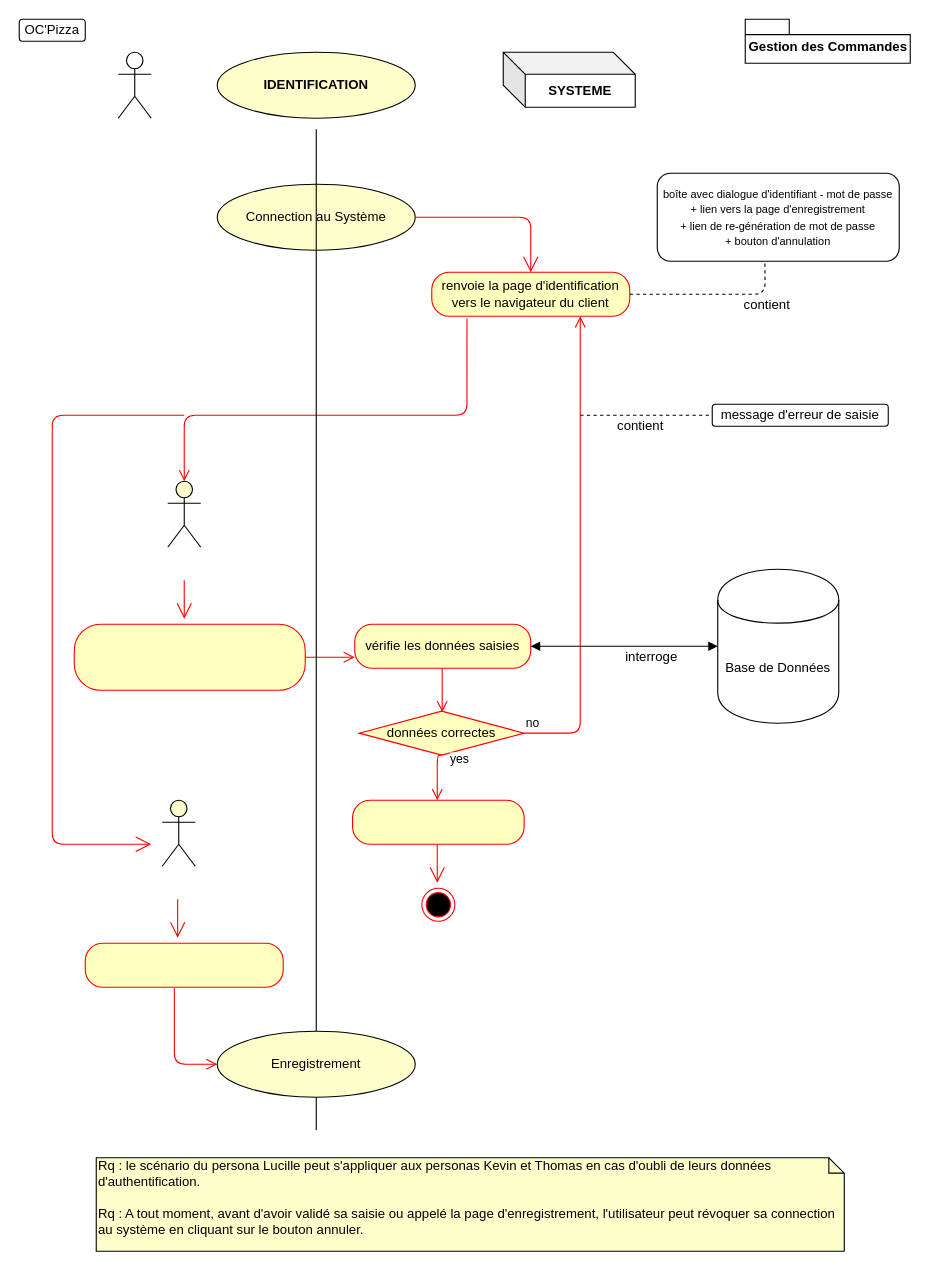
This 930x1271 diagram has some shape labels left out. Here are the shapes that lost their labels. From the top down, the centre of each, then its label:
At point 134,84: "CLIENT".
At point 184,513: "Thomas ou Kevin".
At point 189,656: "saisit ses identifiant & mot de passe puis clique sur le bouton de validation".
At point 178,832: "Lucille".
At point 437,821: "renvoie la page d'accueil vers le navigateur du client".
At point 183,964: "clique sur le lien de la page d'enregistrement".
